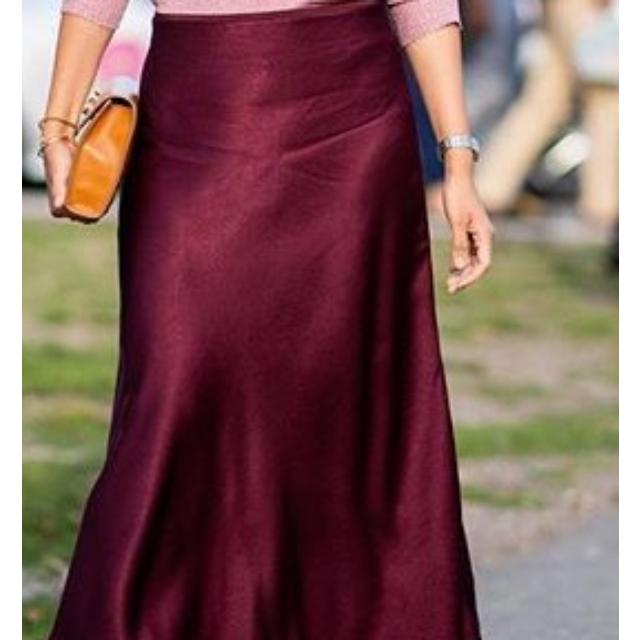silk: (152, 20, 458, 640)
